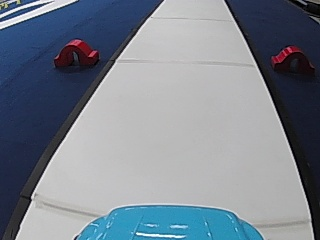bridge: (51, 35, 99, 69), (268, 43, 314, 74)
